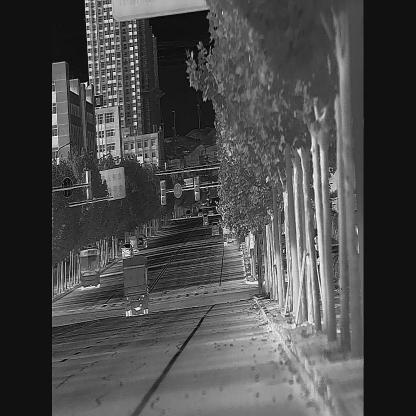bus: (79, 248, 100, 288)
car: (121, 242, 133, 258), (128, 236, 137, 254), (211, 220, 219, 235), (140, 233, 147, 248), (137, 236, 143, 249), (202, 213, 208, 225), (185, 208, 191, 218), (207, 208, 214, 216), (198, 207, 203, 216), (210, 198, 212, 203)
truck: (122, 256, 149, 318), (222, 224, 238, 247)
